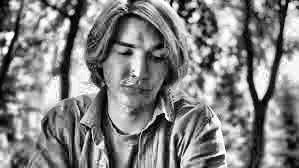sad: (80, 32, 179, 111)
